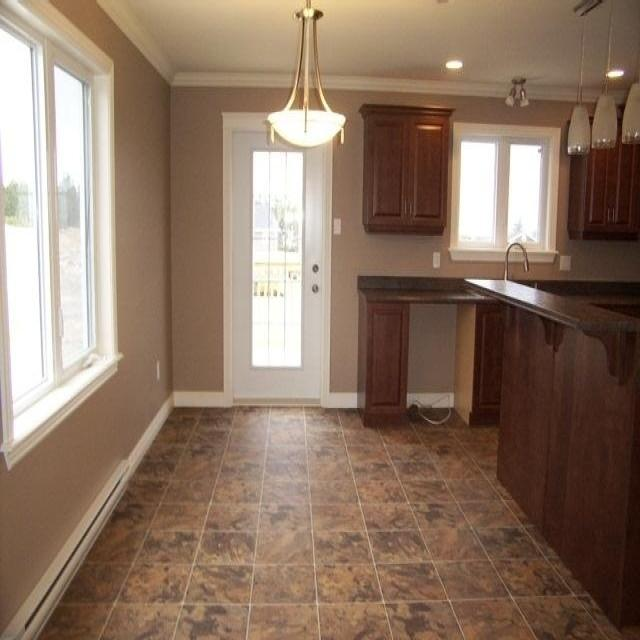door: (218, 106, 335, 414)
